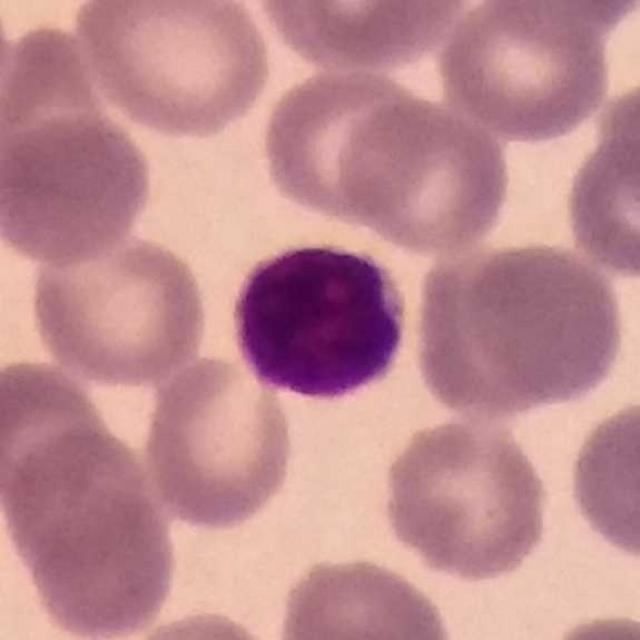Lymphocyte: (227, 233, 418, 407)
RBC: (428, 236, 634, 417), (6, 451, 182, 640), (374, 413, 557, 585), (257, 60, 440, 231), (23, 227, 214, 389), (138, 350, 301, 536), (335, 90, 514, 258), (72, 0, 275, 142), (1, 22, 135, 228), (435, 0, 618, 144), (1, 107, 156, 270), (0, 353, 114, 514), (272, 551, 459, 640), (248, 0, 475, 73), (560, 107, 640, 281), (563, 393, 640, 568), (593, 70, 640, 216), (475, 0, 640, 41), (109, 604, 289, 640), (533, 607, 640, 640)
